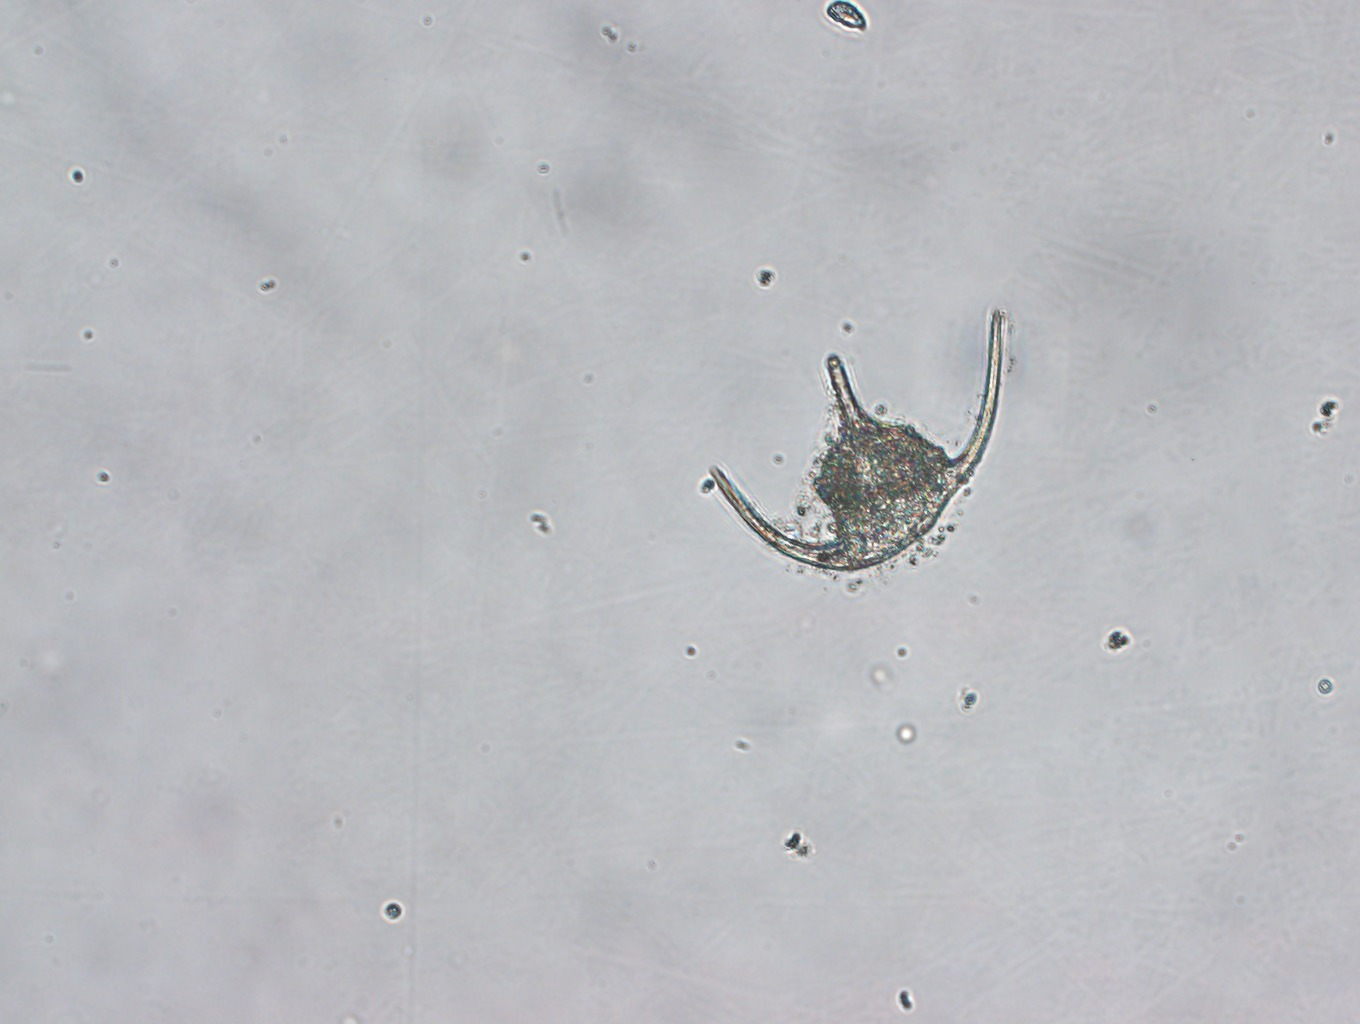ceratium tripos: (707, 307, 1002, 573)
